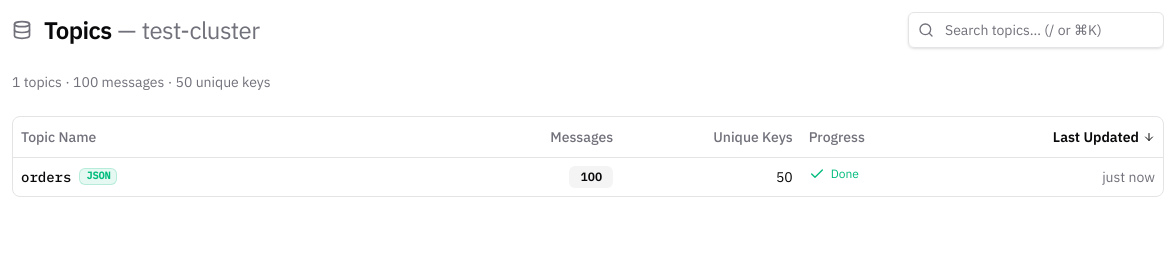
Scenario: TopicsPage › shows no-match state when search has no results
The image size is (1176, 271).
Expected: the text "orders" is shown, [21,166,71,186]
Type "zzzzz" into the field with placeholder "Search topics… (/ or ⌘K)". click: x=1036, y=30
box: [908,12,1164,48]
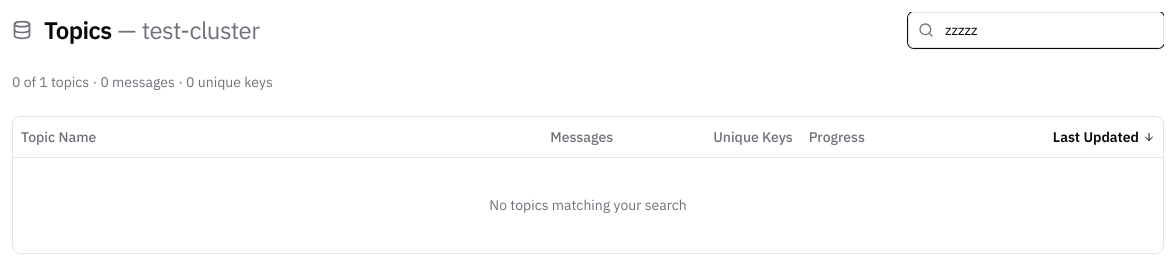
Now the text "No topics matching your search" is shown, box [13,157,1163,253]
